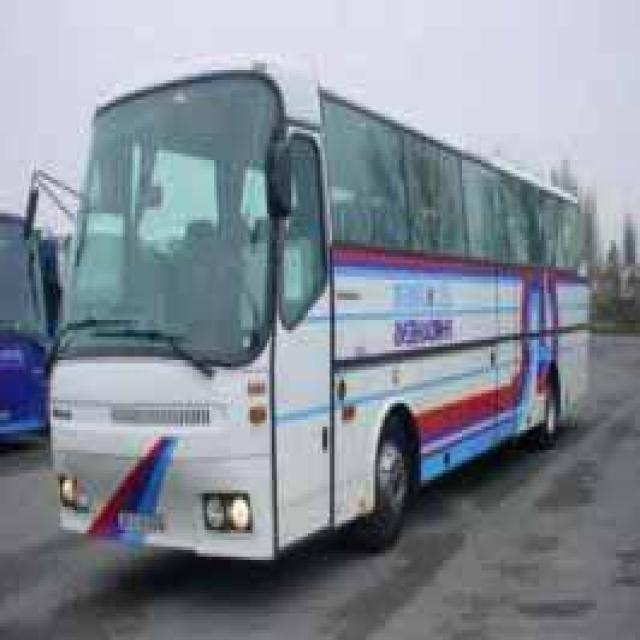Bus: (15, 54, 599, 574)
